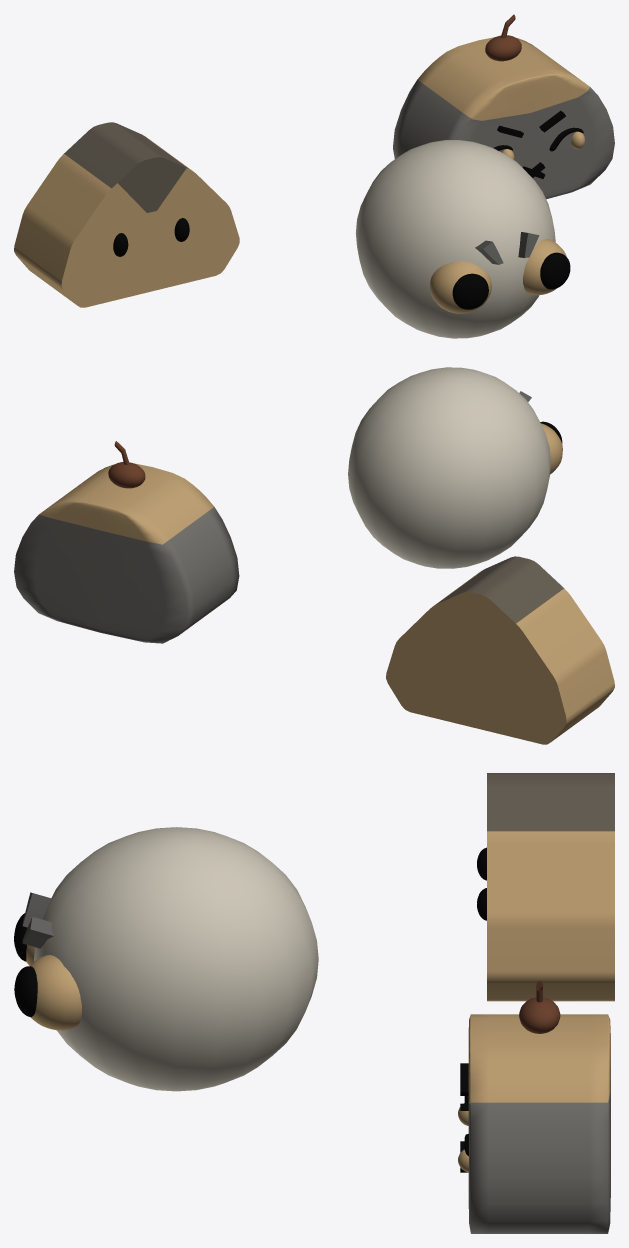
The model's file is bolas enemigas.fbx.
3 renders of one model, top to bottom at view 1: azimuth 30°, elevation 25°; view 2: azimuth 150°, elevation 25°; view 3: azimuth 270°, elevation 25°, orthographic. The views are drawn at different scales.
Visible parts, largest first — view 1: bola_blanca, bola_naranja, bola_pastel; view 2: bola_blanca, bola_pastel, bola_naranja; view 3: bola_blanca, bola_pastel, bola_naranja.
Part boxes in pixels (left/top/right/bottom): bola_blanca: left=355, top=140, right=570, bottom=338; bola_naranja: left=14, top=122, right=239, bottom=307; bola_pastel: left=393, top=14, right=614, bottom=199; bola_blanca: left=348, top=367, right=562, bottom=568; bola_pastel: left=14, top=441, right=239, bottom=643; bola_naranja: left=386, top=556, right=614, bottom=744; bola_blanca: left=14, top=827, right=318, bottom=1091; bola_pastel: left=458, top=981, right=610, bottom=1233; bola_naranja: left=477, top=773, right=614, bottom=1001.
Size of the model in its own units: 5.96 by 1.87 by 4.22.
